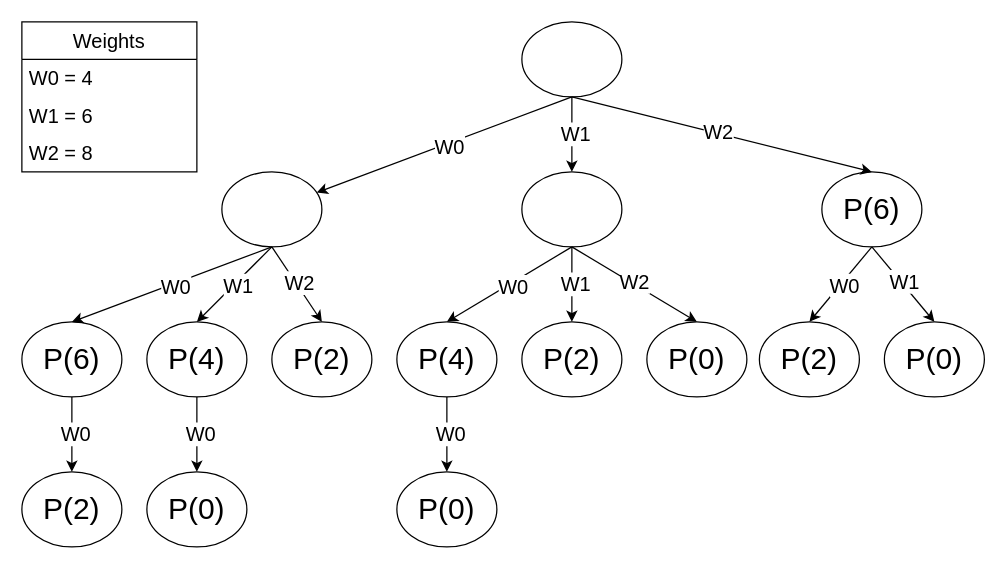
This 1006x569 diagram has some shape labels left out. The shapes that lost their labels are listed below. From the top down, each one's centre as x and y in pixels, then its label:
(571,59): P(14)
(271,209): P(10)
(571,209): P(8)
